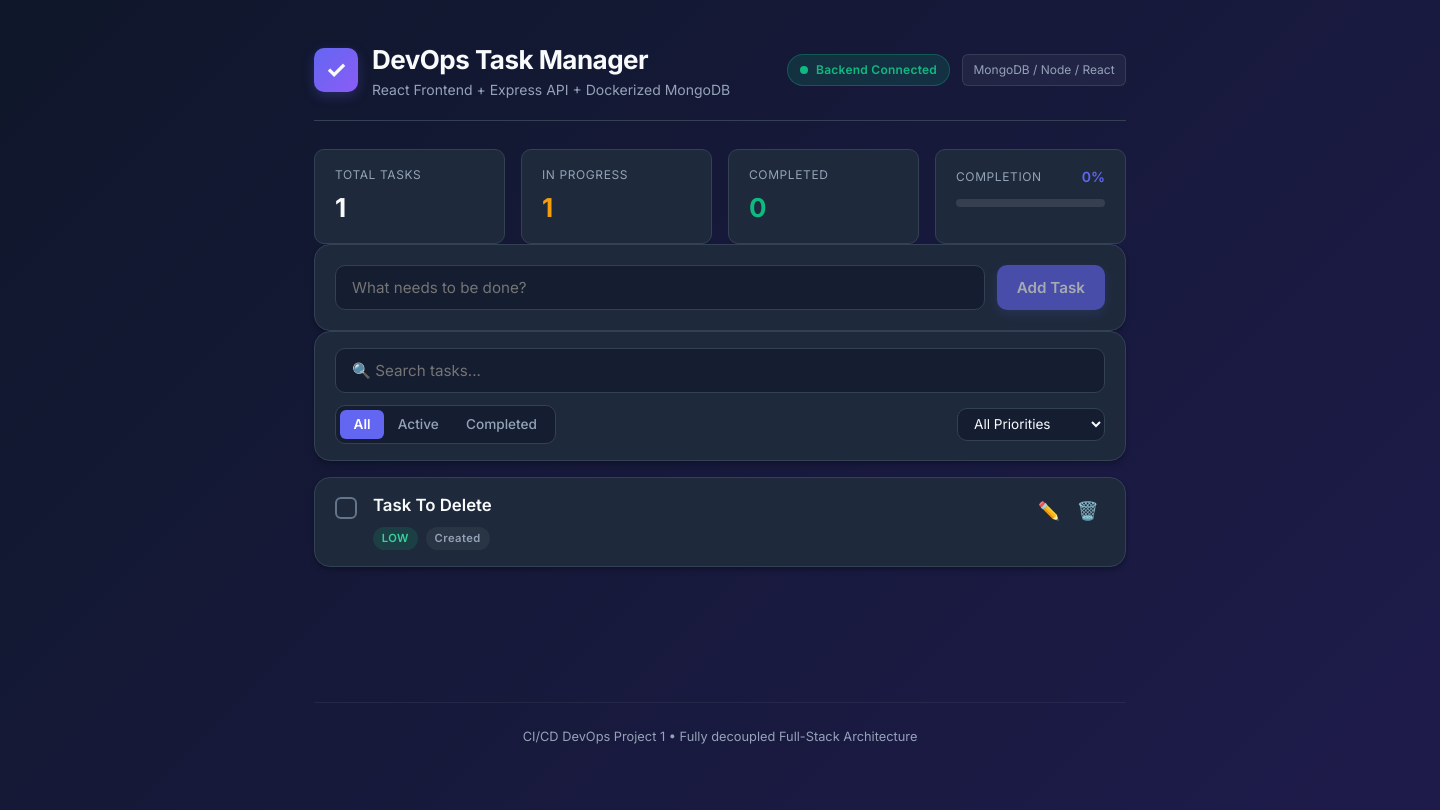
Test: App Root Component Integration & Edge Cases › should handle optimistic delete and revert state when deleteTodo fails
The image size is (1440, 810).
Check: the heading "Task To Delete" is shown, box [373,495,492,515]
Click the button named "delete \"Task To Delete\"" at coordinates (1088, 511), box [1070,494,1105,528]
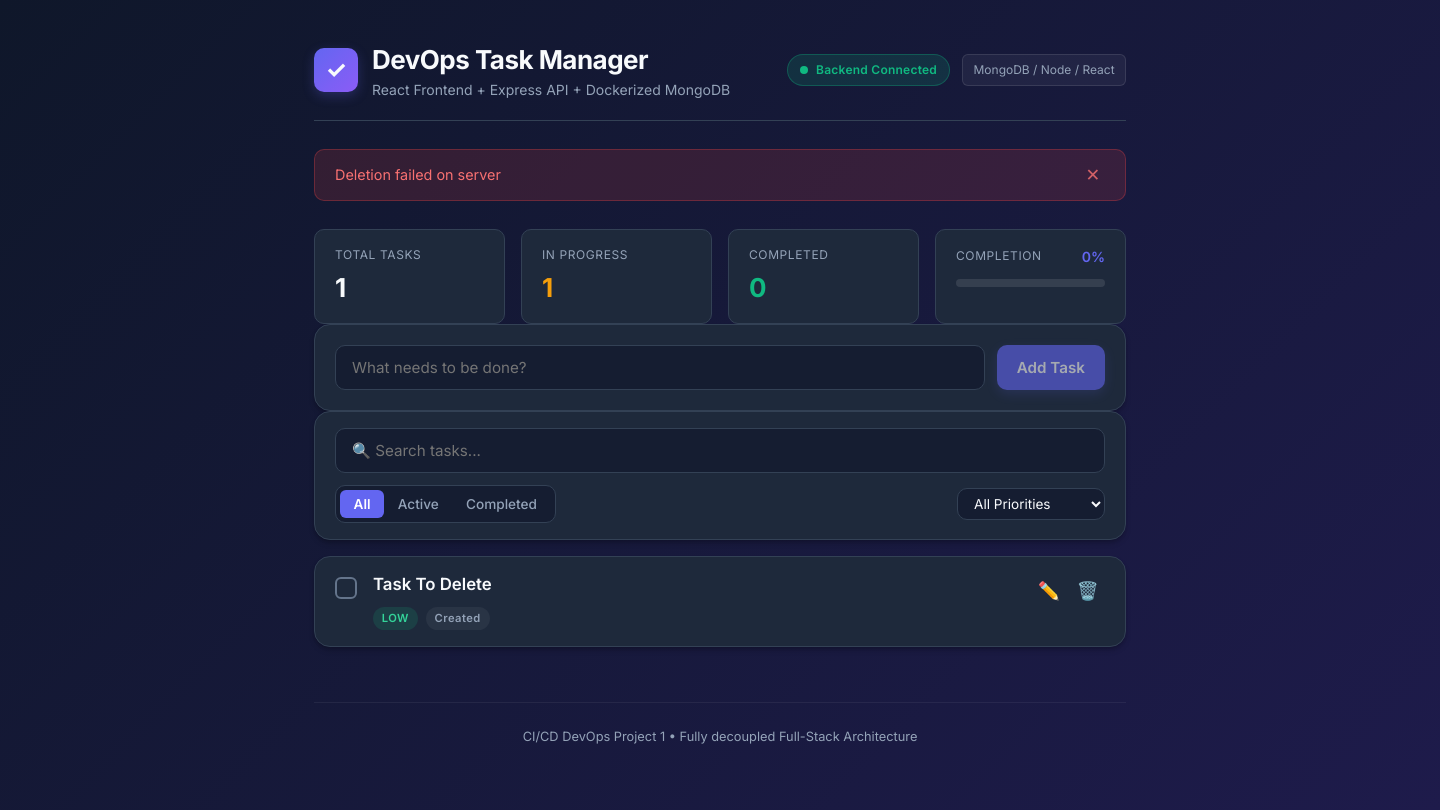
Check: the heading "Task To Delete" is shown, box [373,574,492,594]
Check: the text "Deletion failed on server" is shown, box [335,164,501,186]
